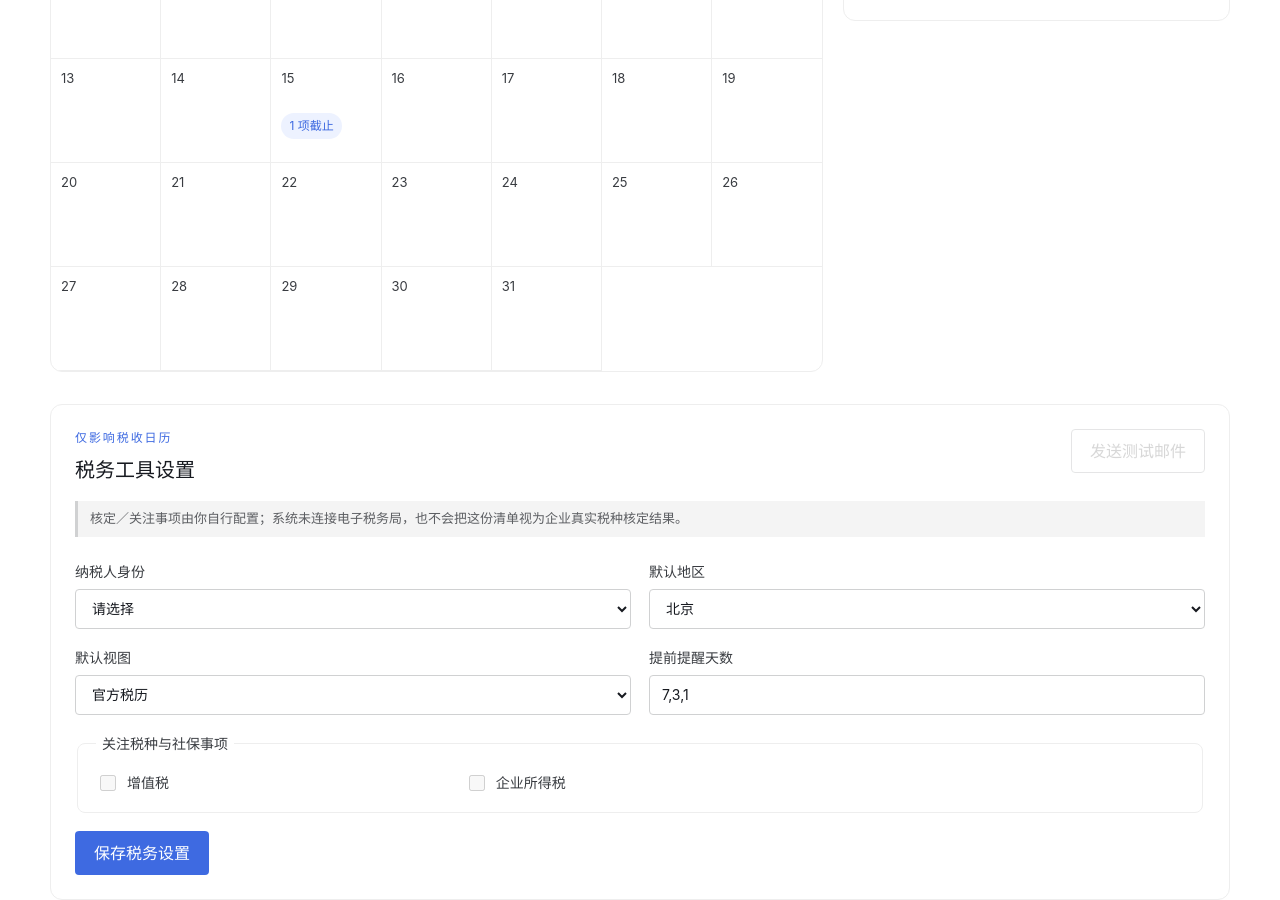
saves tool-local profile settings and disables test email when SMTP is absent
(page scrolled)
Select "增值税一般纳税人" in the dropdown labelled "纳税人身份" at (353, 608), box [75,588,631,628]
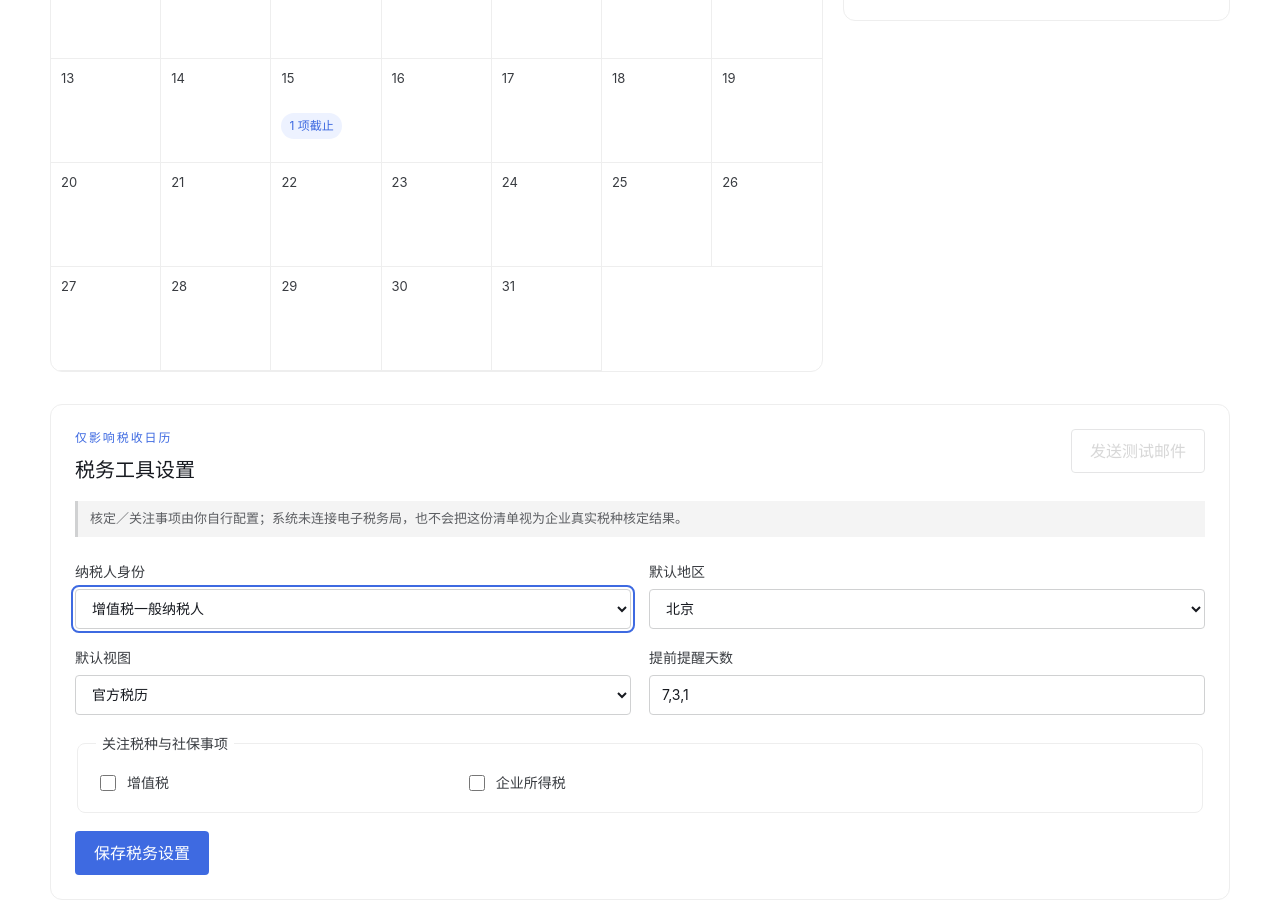
Click the checkbox labelled "增值税" at (108, 782), box [100,774,116,790]
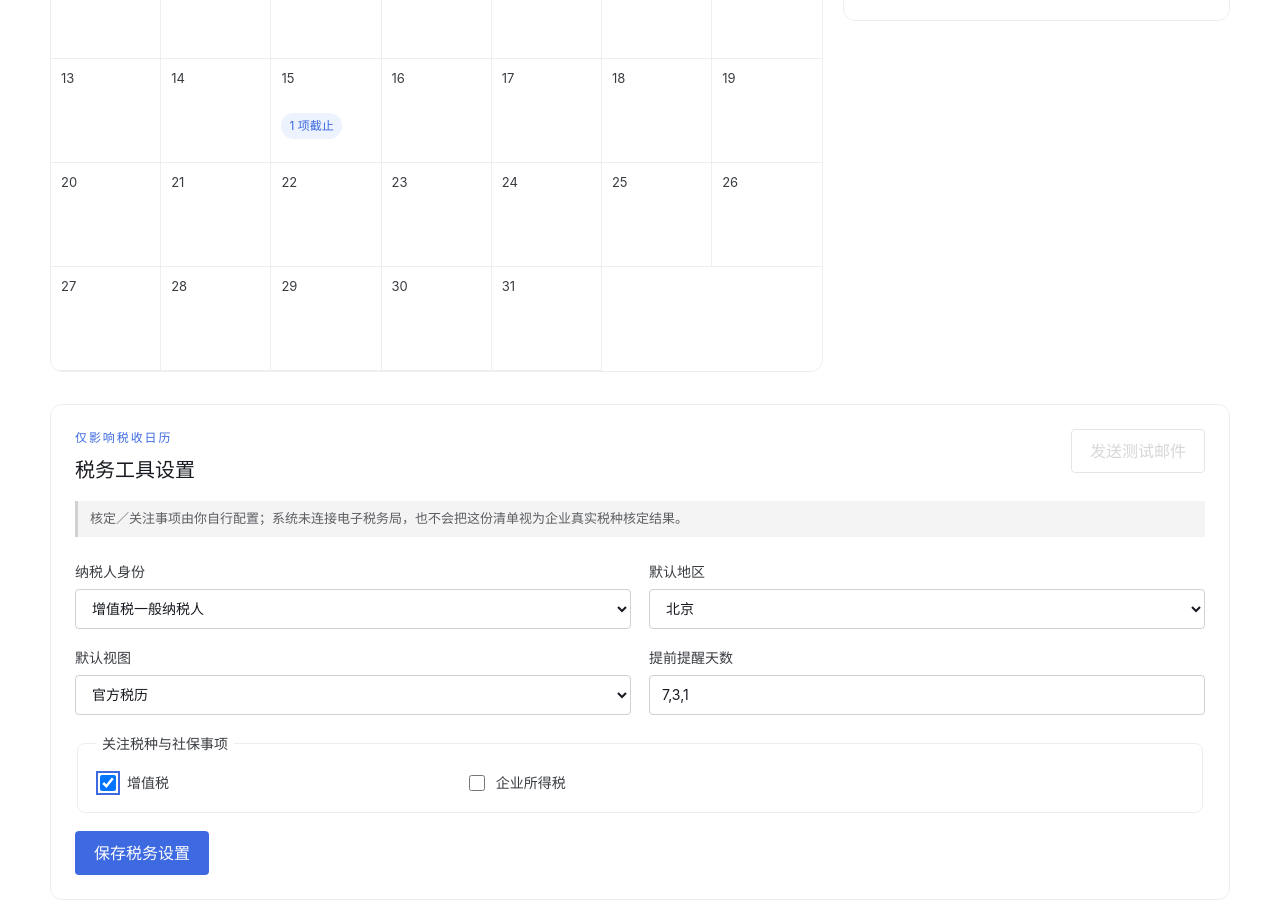
Click the button "保存税务设置" at (142, 852), box [75,830,209,874]
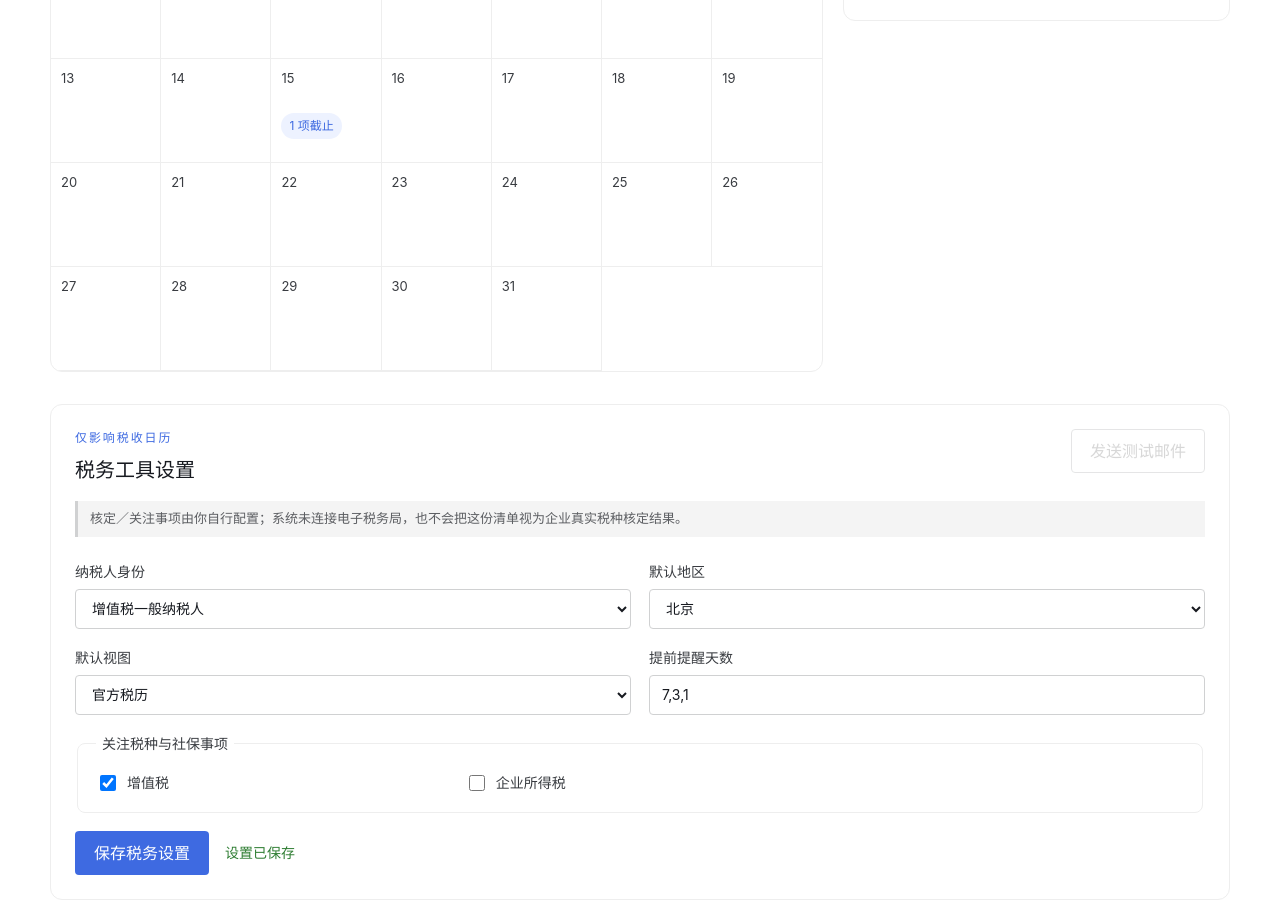
Check: the button "发送测试邮件" is disabled, box [1071,429,1205,473]
Check: the text "设置已保存" is shown, box [225,842,295,863]
